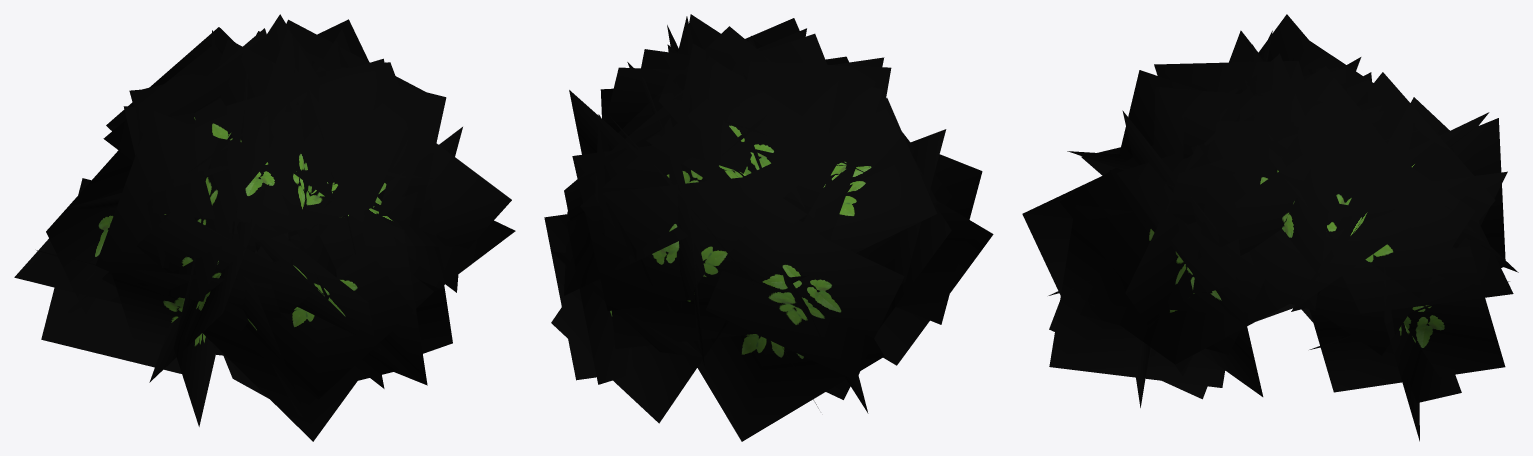
Rendered from Bush_35.001.fbx.
3 renders of one model, left to right at view 1: azimuth 30°, elevation 25°; view 2: azimuth 150°, elevation 25°; view 3: azimuth 270°, elevation 25°, orthographic. The views are drawn at different scales.
Visible parts, largest first — view 1: Bush_35; view 2: Bush_35; view 3: Bush_35.
Part boxes in pixels (x1=…): Bush_35: x1=14, y1=14, x2=515, y2=441; Bush_35: x1=544, y1=14, x2=993, y2=441; Bush_35: x1=1022, y1=14, x2=1518, y2=441.
Bounding box in the file's own units: 229 × 190 × 238.
